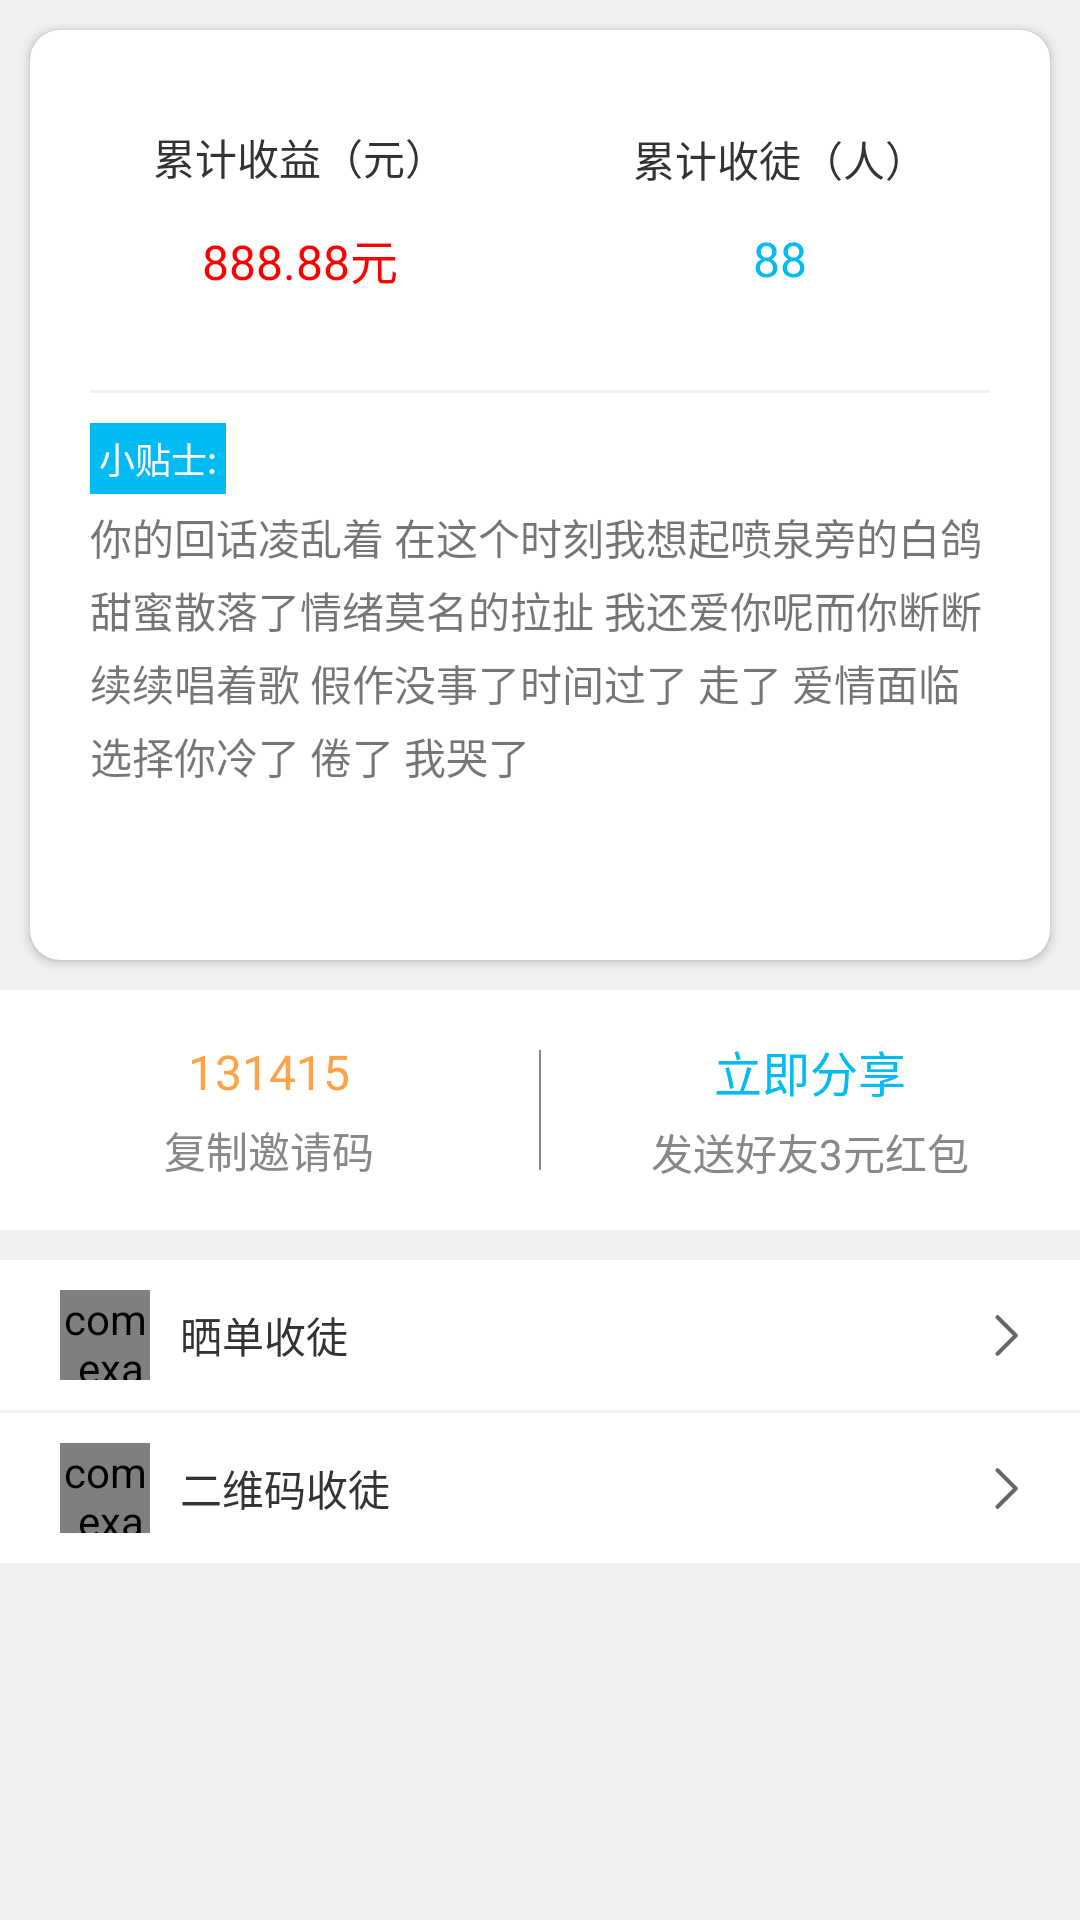

Where to tap for icons on this 1080x1920 app screen, as (x,y):
right: (1006,1335), (1006,1488)
